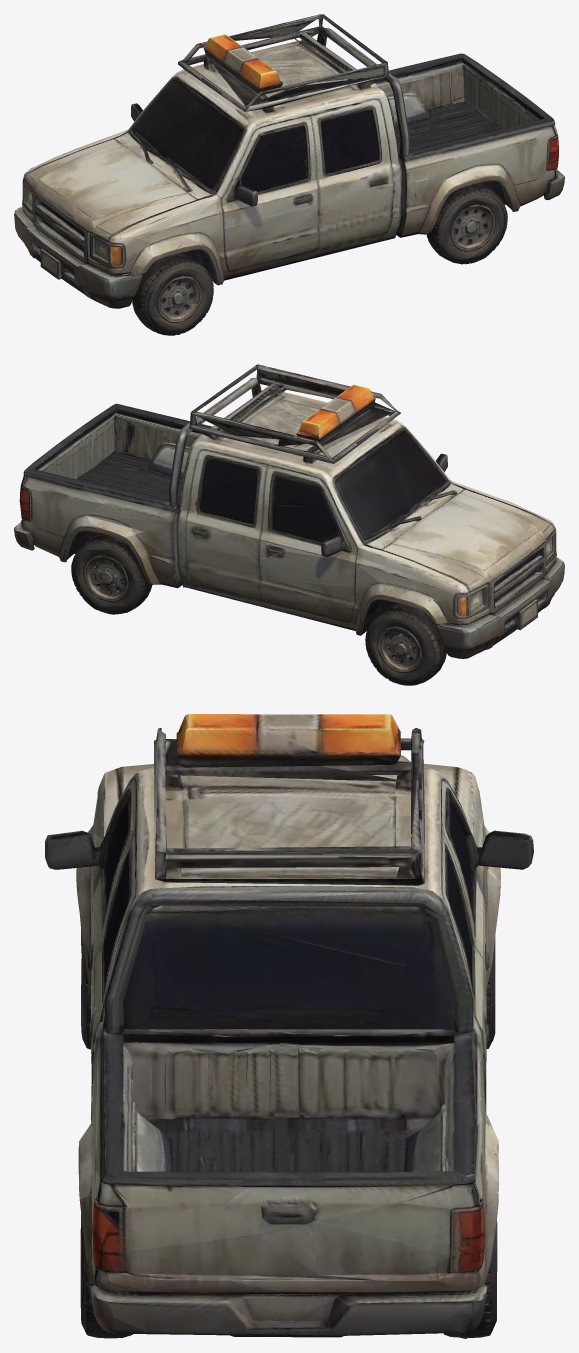
Rendered from ute.glb.
The picture shows the model from 3 angles, top to bottom: view 1: azimuth 30°, elevation 25°; view 2: azimuth 150°, elevation 25°; view 3: azimuth 270°, elevation 25°; orthographic projection. The views are drawn at different scales.
Bounding box in the file's own units: 1.9 × 0.8373 × 0.8533.
Materials: 1 (1 with a texture image).
